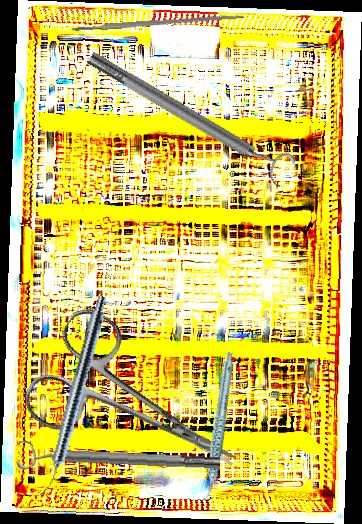Fixation Ring: (81, 39, 298, 191), (16, 437, 221, 481)
Handpiece: (37, 293, 111, 500), (170, 350, 264, 504)
Iris Scissors: (16, 301, 264, 519)
Scalpel Handle: (69, 12, 246, 33)
